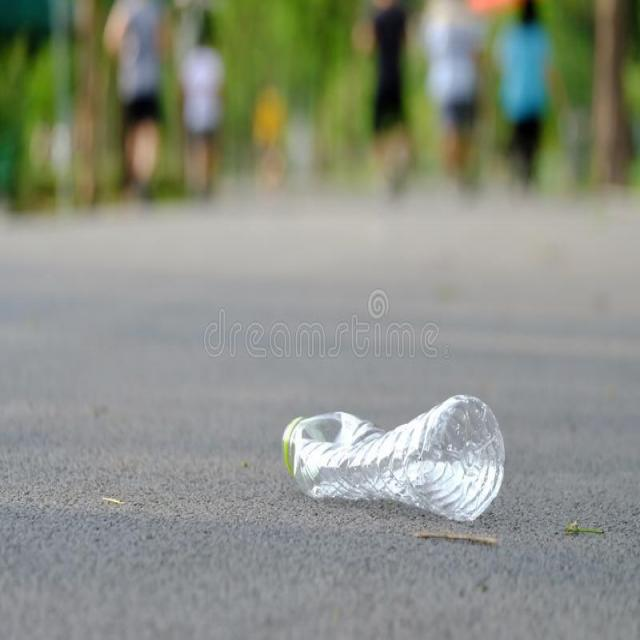bottle: (270, 395, 521, 536)
